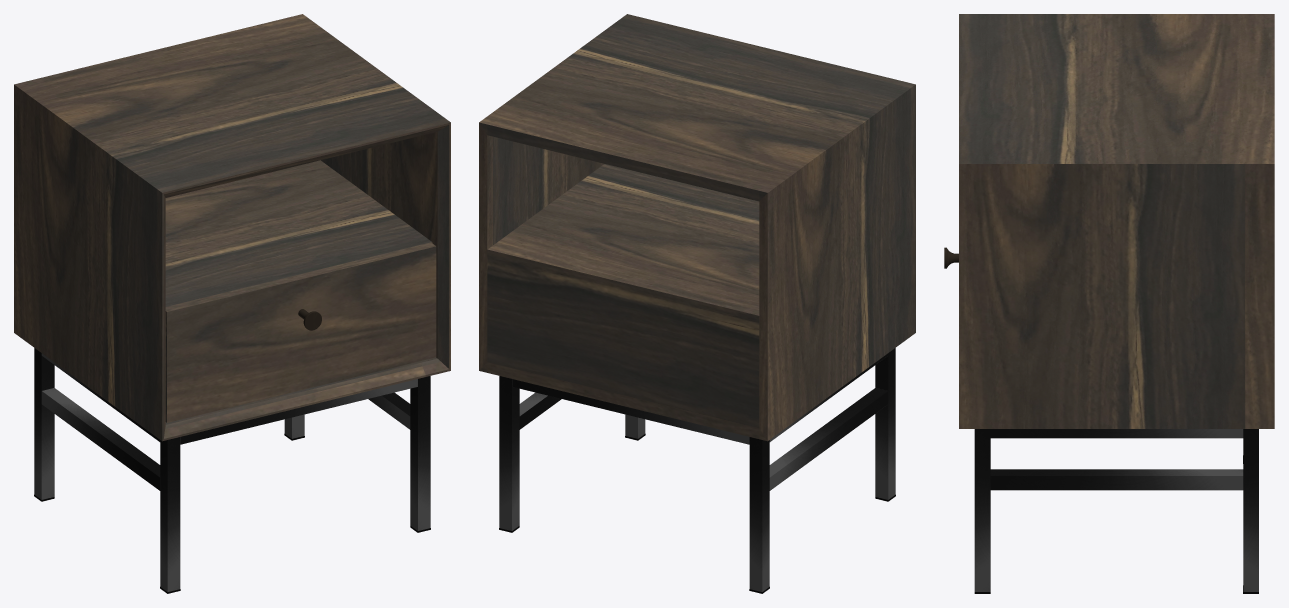
File: 030.2_Mesa-de-noche.glb
The picture shows the model from 3 angles, left to right: view 1: azimuth 30°, elevation 25°; view 2: azimuth 150°, elevation 25°; view 3: azimuth 270°, elevation 25°; orthographic projection. The views are drawn at different scales.
Visible parts, largest first — view 1: root; view 2: root; view 3: root.
Boxes of the visible parts, x1=… form: root: x1=14, y1=14, x2=450, y2=593; root: x1=479, y1=14, x2=915, y2=593; root: x1=944, y1=14, x2=1274, y2=593.
Size of the model in its own units: 0.45 by 0.61 by 0.4188.
7 materials, 5 textured.
